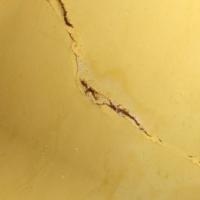crack: (43, 0, 170, 143)
